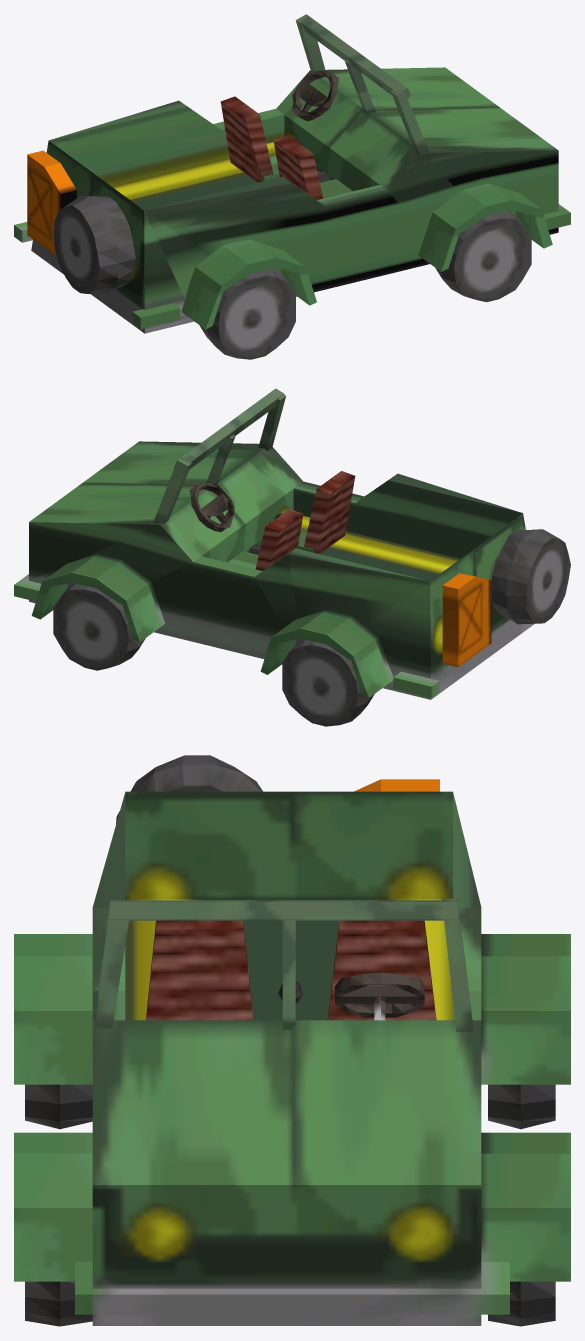
File: Jeep.glb
The picture shows the model from 3 angles, top to bottom: view 1: azimuth 30°, elevation 25°; view 2: azimuth 150°, elevation 25°; view 3: azimuth 270°, elevation 25°; orthographic projection. The views are drawn at different scales.
Visible parts, largest first — view 1: Jeep; view 2: Jeep; view 3: Jeep.
Part boxes in pixels (x1,y1,x2,y2): Jeep: (14,14,570,359); Jeep: (14,388,570,726); Jeep: (14,755,570,1326).
Bounding box in the file's own units: 468 × 207 × 287.
1 material, 1 textured.
